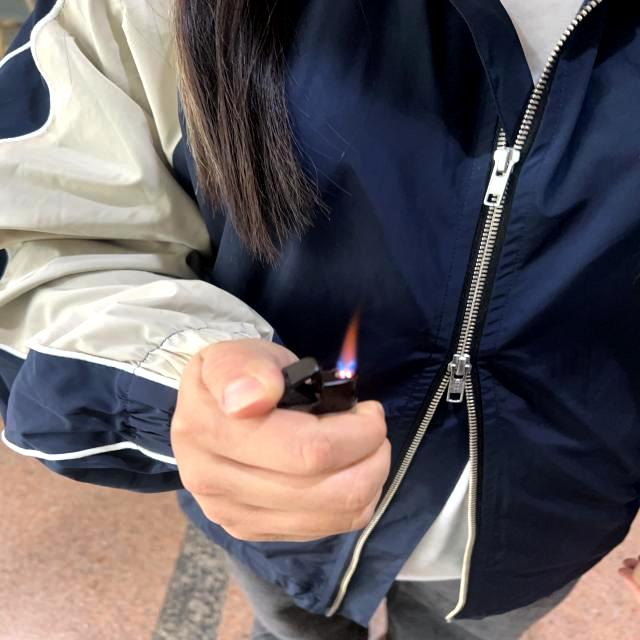fire: (336, 300, 362, 380)
